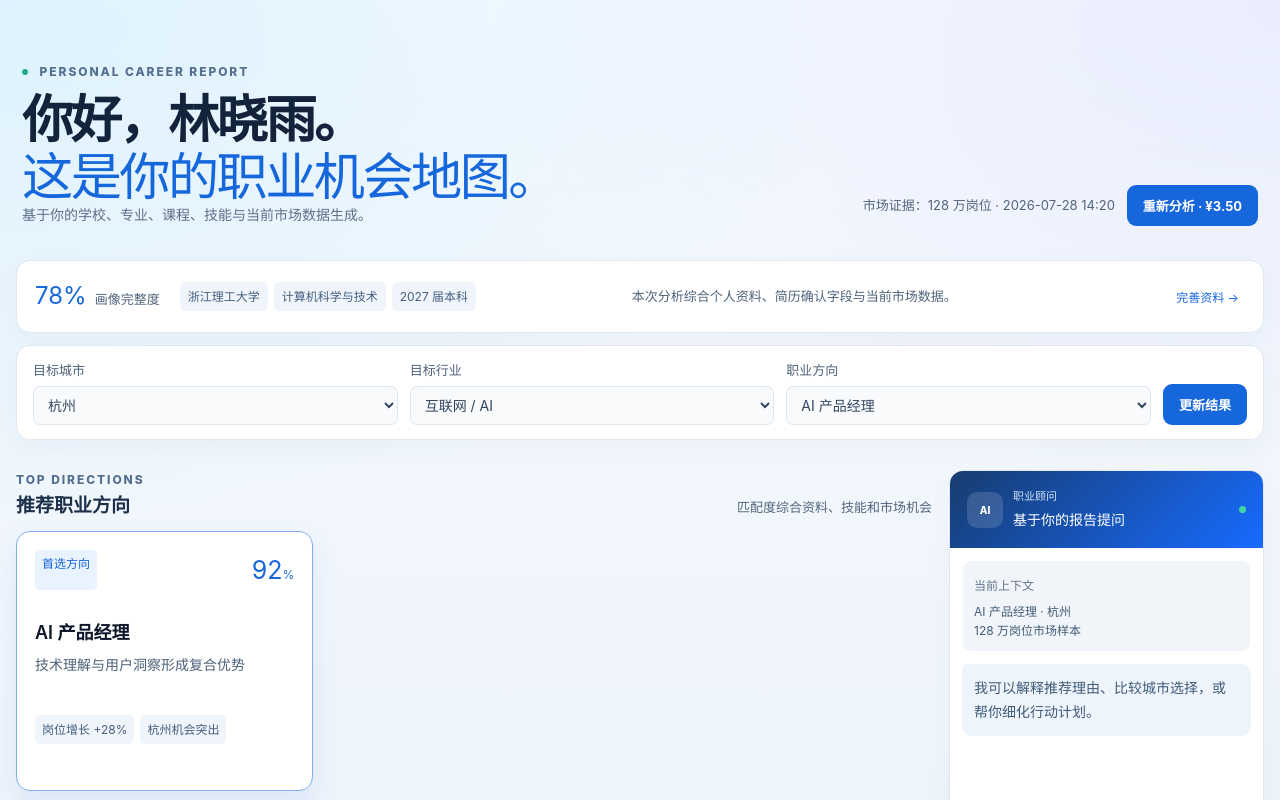
it: CareerAnalysisView › does not take over an active run owned by another Agent feature
What coordinates should you click on to do the following:
click the button with test id "generate-analysis"
I would click on:
 (1192, 206)
Its box is [1127,185,1258,226].
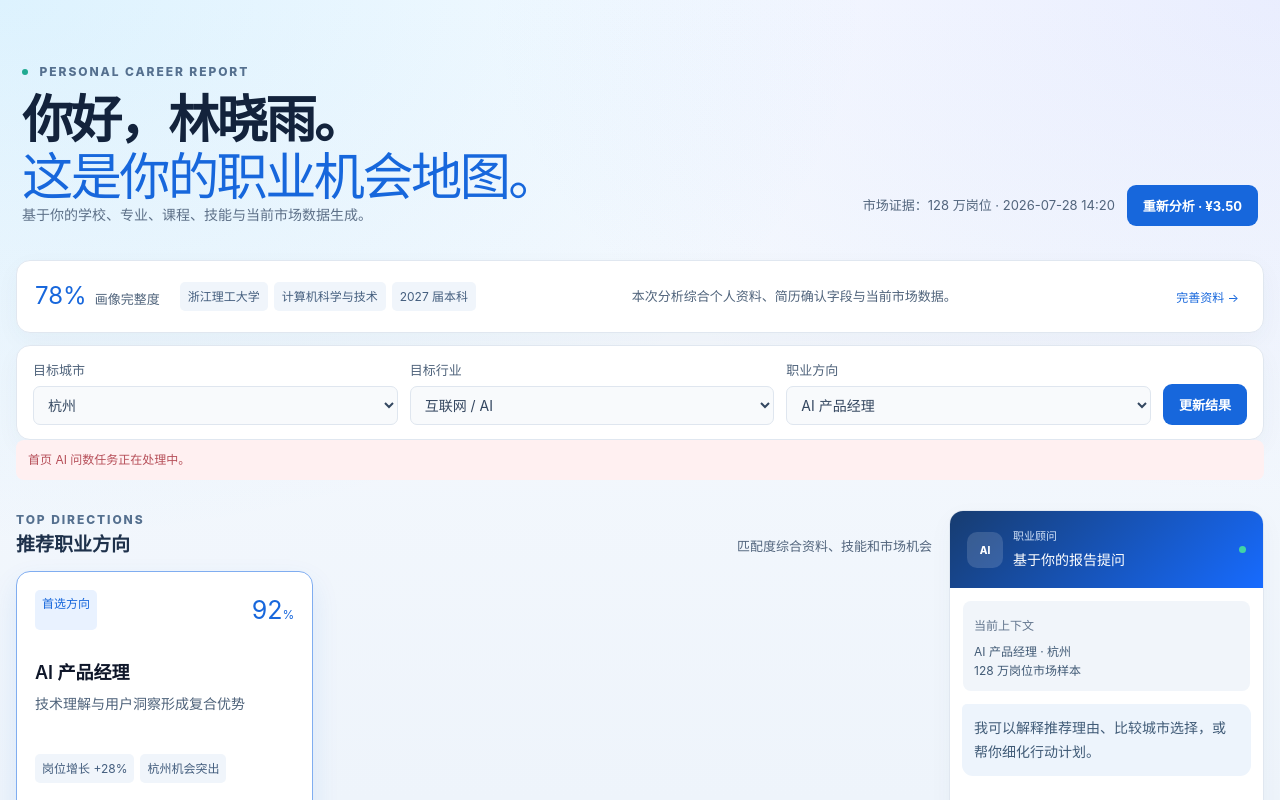
Now the text with class "error-message" shows "首页 AI 问数任务正在处理中", box [28,452,190,467]
